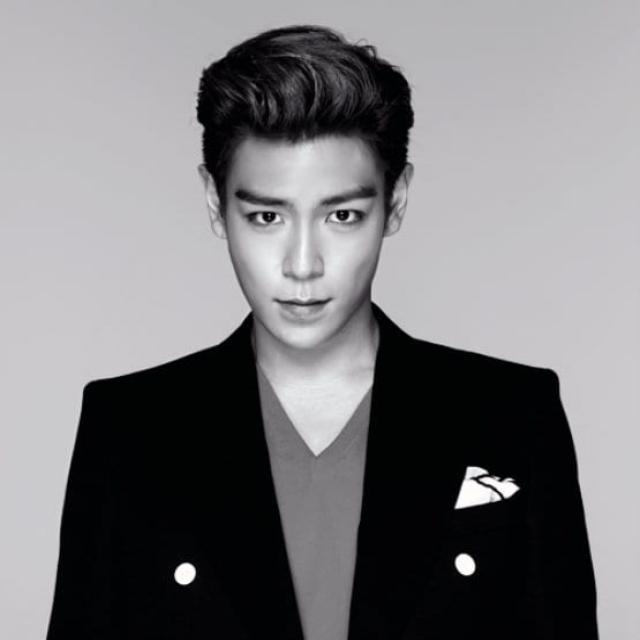mobile_phonerotation: (36, 23, 605, 639)
